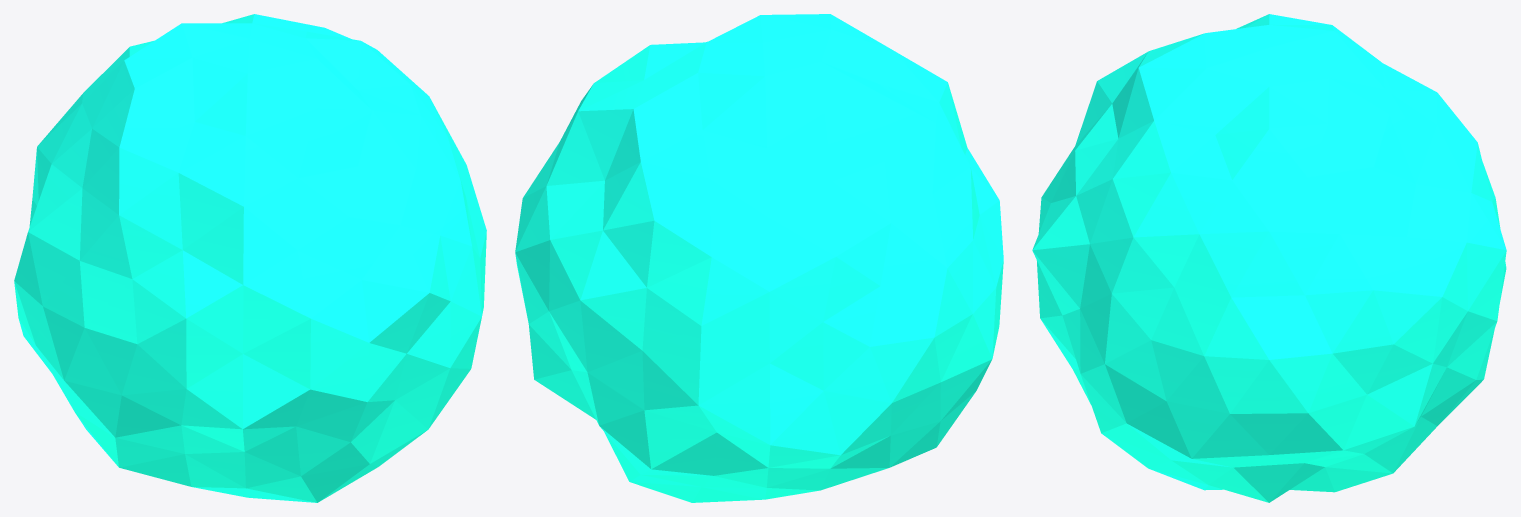
Rendered from scholae.glb.
3 renders of one model, left to right at view 1: azimuth 30°, elevation 25°; view 2: azimuth 150°, elevation 25°; view 3: azimuth 270°, elevation 25°, orthographic. The views are drawn at different scales.
Visible parts, largest first — view 1: outer_scholae; view 2: outer_scholae; view 3: outer_scholae.
Part boxes in pixels (x1,y1,x2,y2): outer_scholae: (14,14,486,502); outer_scholae: (515,14,1003,502); outer_scholae: (1032,14,1506,502).
Bounding box in the file's own units: 5.28 × 5.29 × 5.3.
